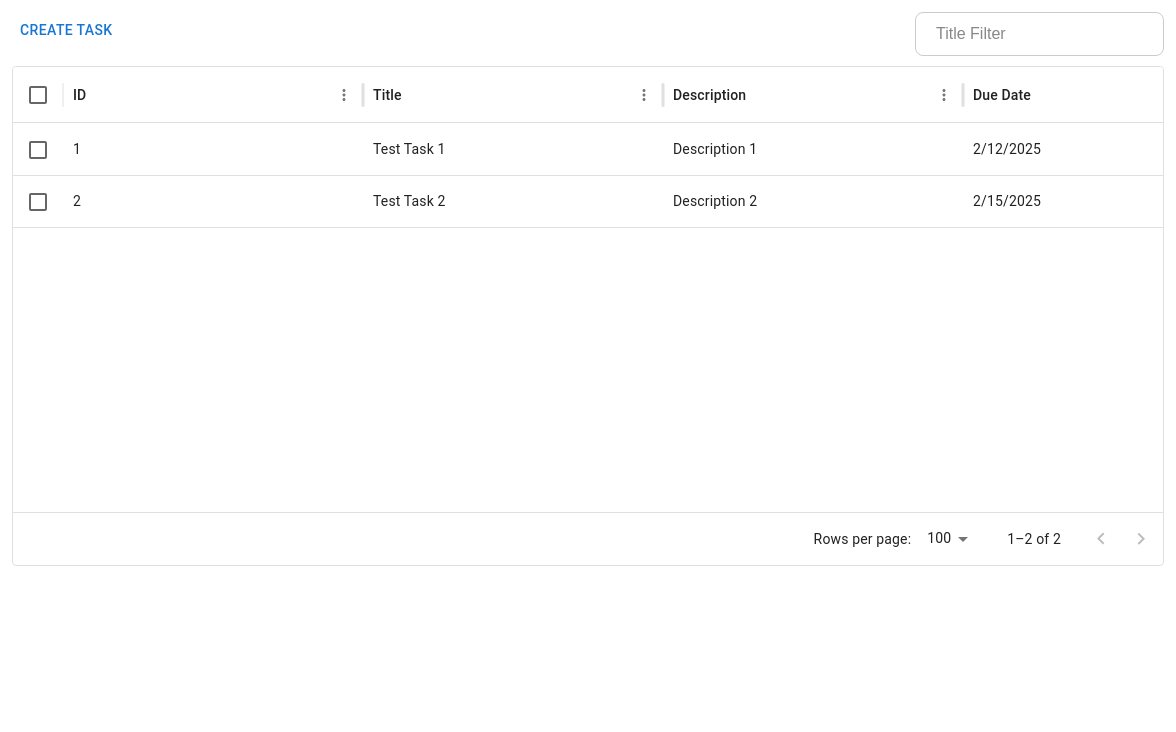
App › should filter tasks based on search input
Expected: the text "Test Task 1" is shown, [373, 141, 446, 157]
Type "Task 1" into the field at (1040, 34), box [915, 12, 1164, 56]
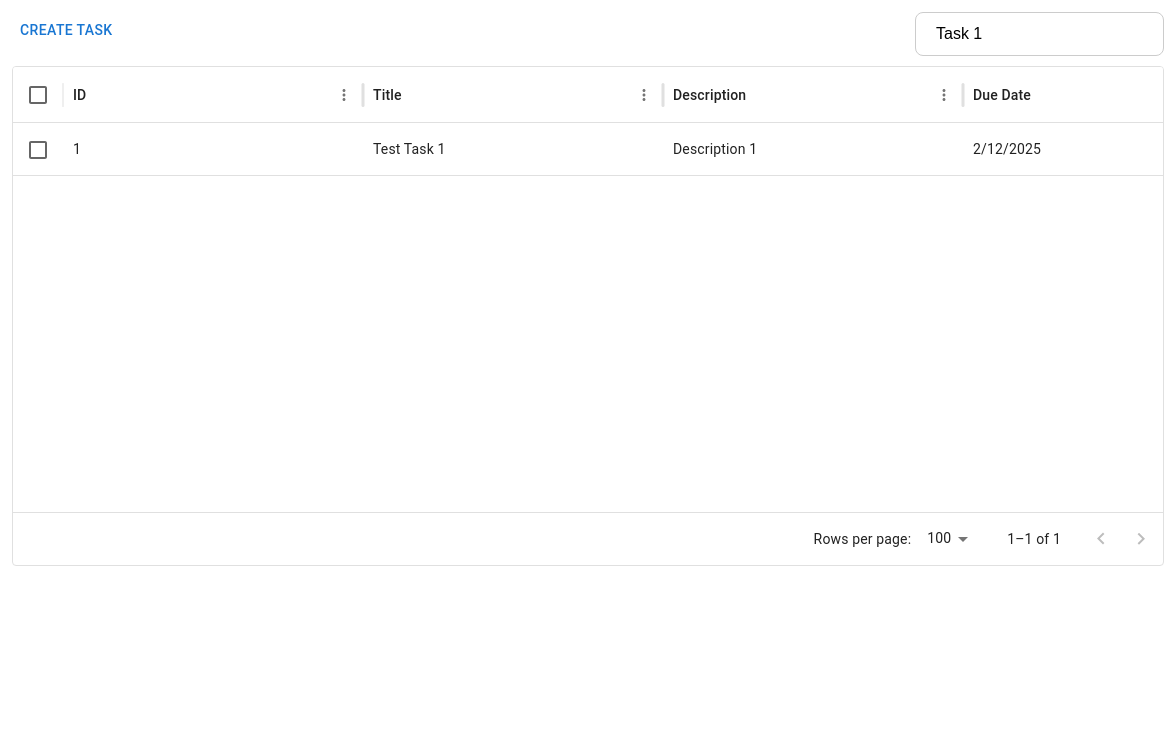
Expected: the text "Test Task 1" is shown, [373, 141, 446, 157]
Expected: the text "Test Task 2" is gone
